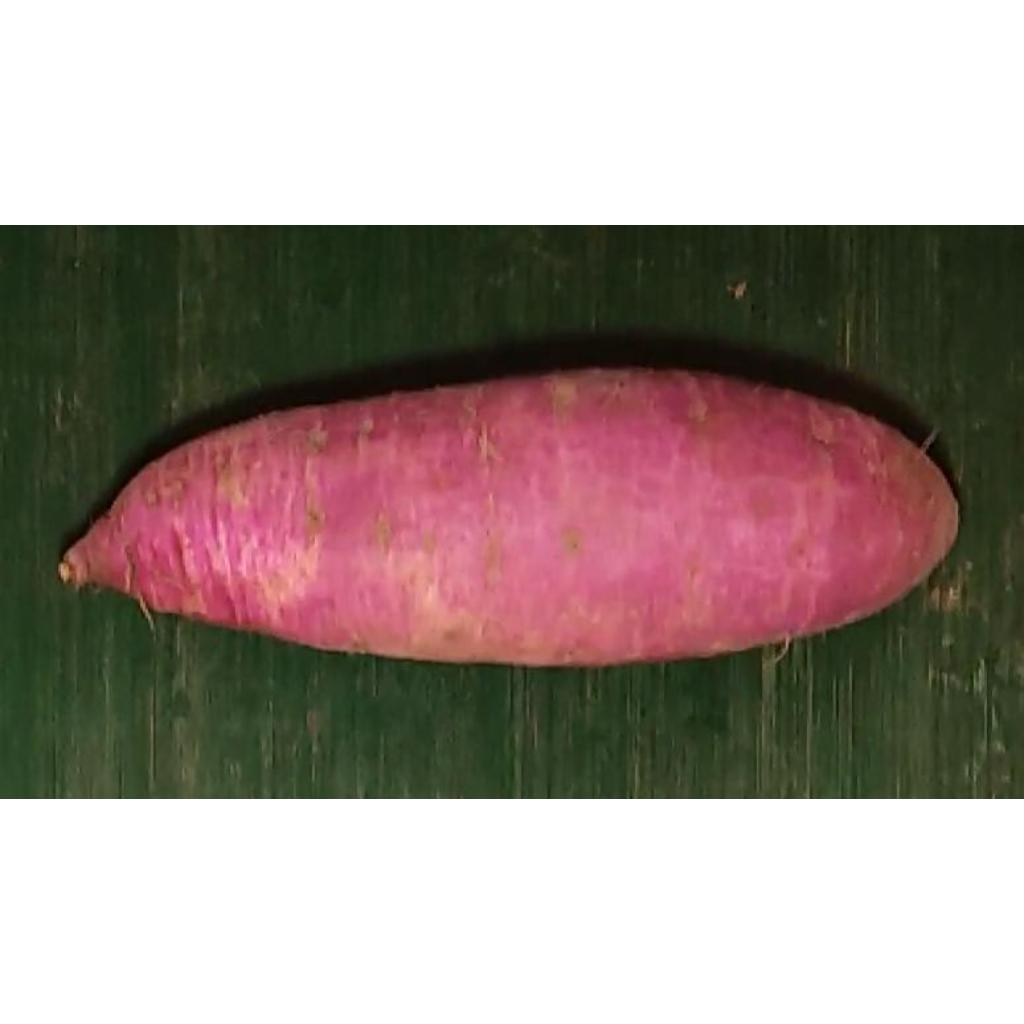Sweet Potato: (57, 367, 958, 668)
